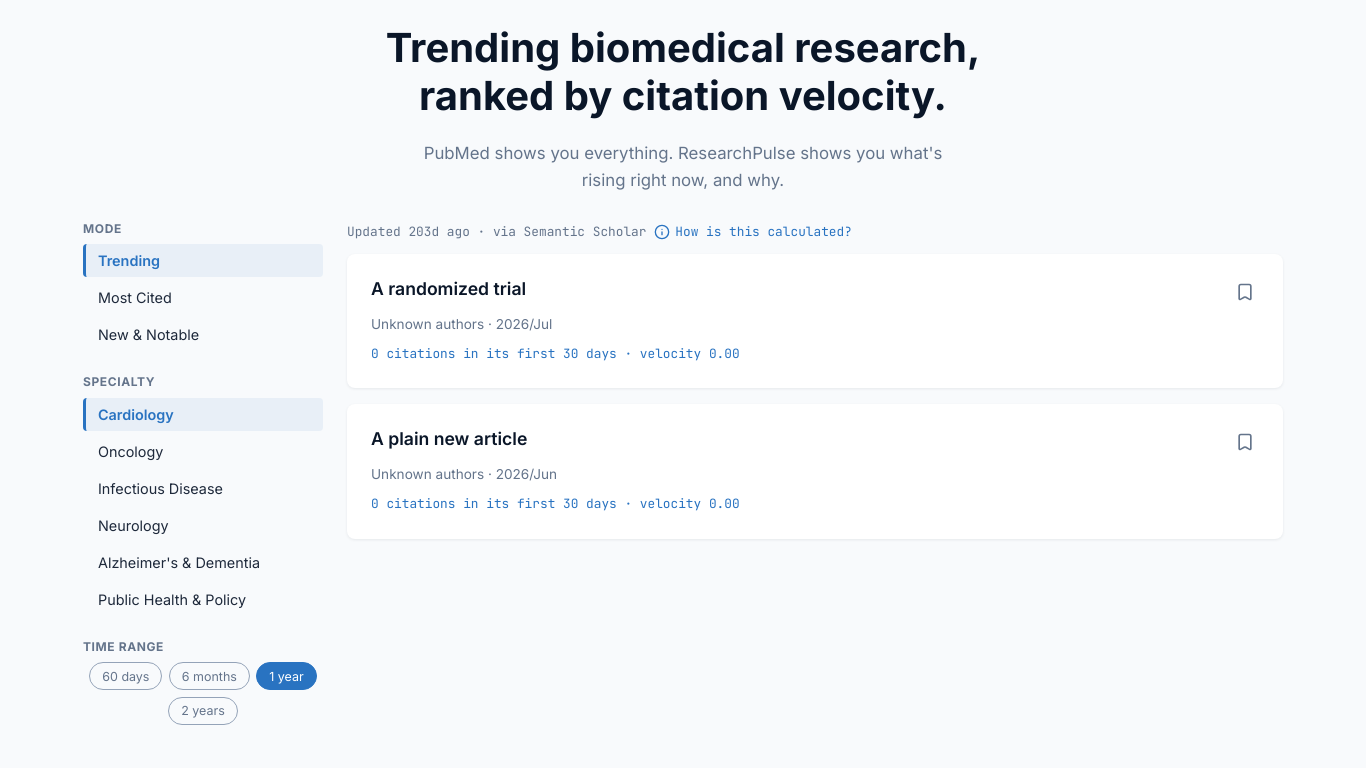
Test: TrendingPage › shows an evidence-tier badge for a tiered article in New & Notable mode, but not for others
Expected: the heading "A randomized trial" is shown, [371,278,526,299]
Click the radio button labelled "New & Notable": coordinates (203, 335) [83,318,323,351]
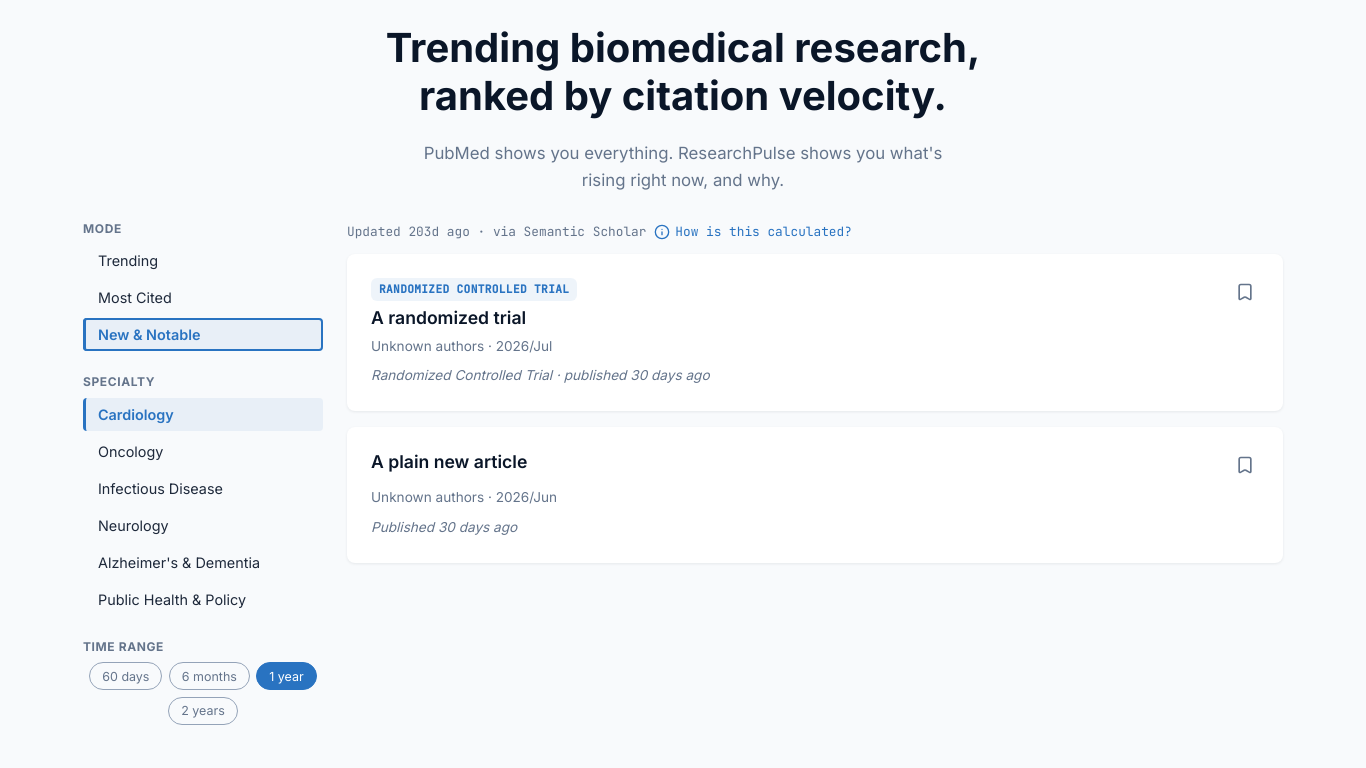
Expected: the heading "A randomized trial" is shown, [371,306,526,328]
Result: the text "Randomized Controlled Trial" is shown at [371,278,577,301]
